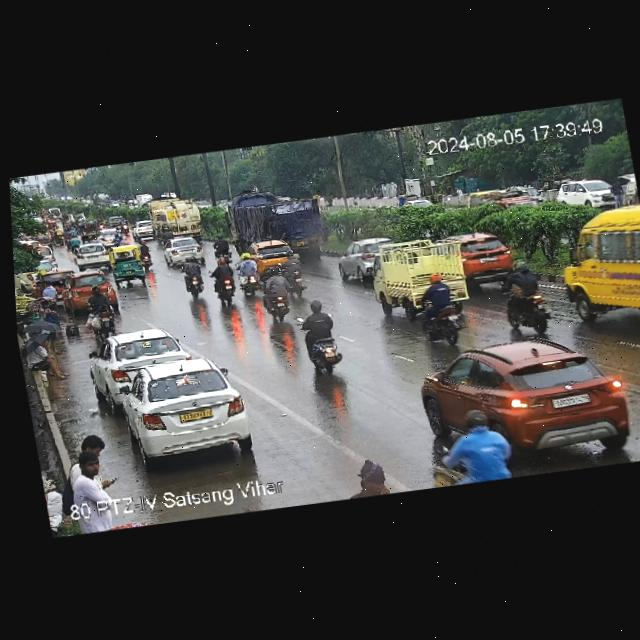bus: (549, 196, 640, 330)
car: (404, 329, 624, 459), (114, 352, 256, 462), (89, 323, 190, 392), (452, 228, 518, 287), (334, 235, 403, 281), (55, 268, 122, 313), (553, 176, 615, 212), (250, 239, 302, 270), (160, 234, 207, 266), (70, 241, 114, 270), (110, 256, 149, 283), (78, 218, 100, 241)
motorcycle: (429, 409, 516, 487), (291, 296, 348, 379), (412, 271, 462, 322), (496, 261, 543, 301), (257, 267, 291, 322), (80, 282, 119, 324), (279, 248, 309, 297), (213, 256, 240, 309), (233, 251, 262, 300), (178, 252, 208, 299), (210, 235, 234, 264), (138, 242, 156, 268), (66, 234, 83, 253), (120, 215, 133, 236), (94, 217, 107, 231)
person: (50, 430, 124, 536), (17, 323, 73, 383), (38, 279, 61, 307), (608, 179, 626, 208), (636, 317, 640, 401)
truck: (229, 183, 329, 258), (363, 242, 467, 310), (148, 190, 216, 244), (467, 182, 543, 211)
